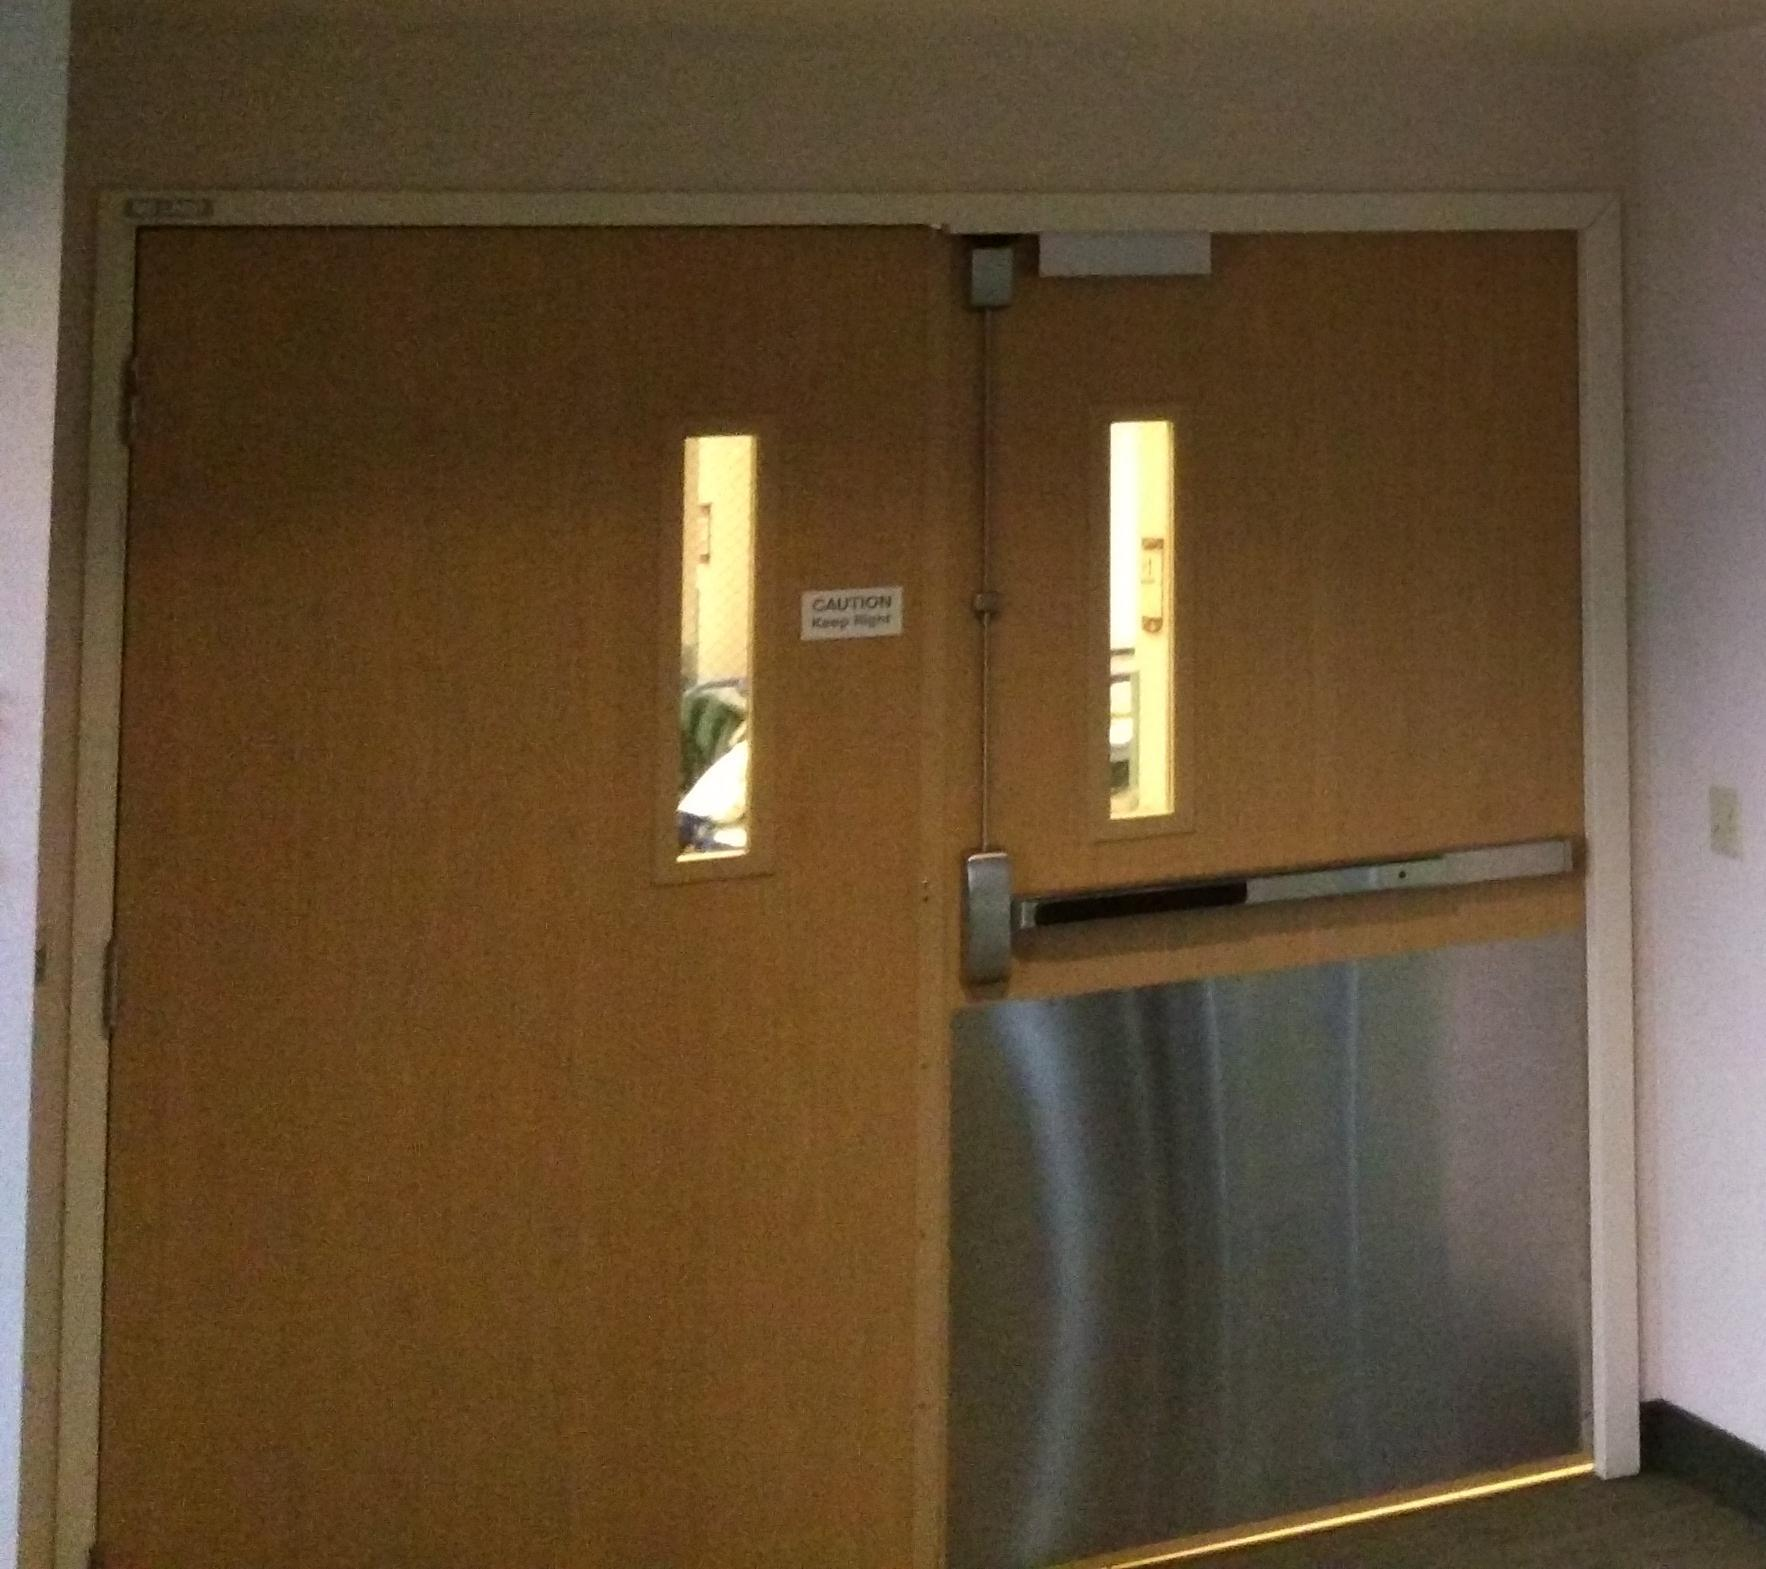door: (115, 224, 1605, 1495)
